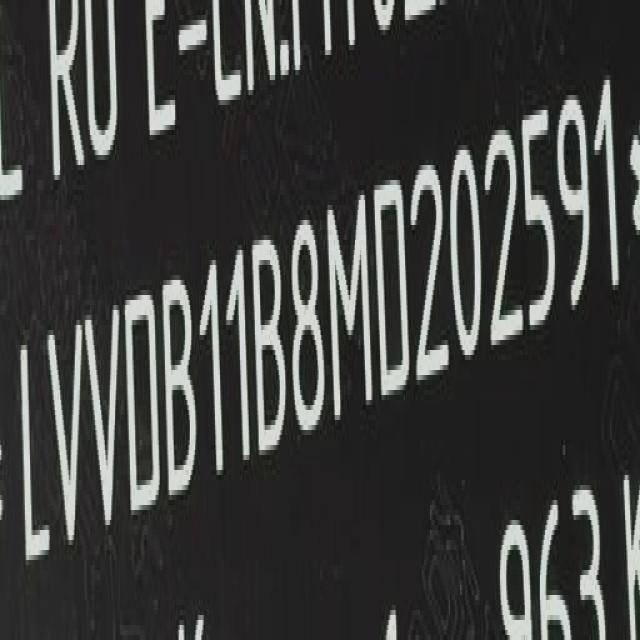0: (446, 146, 482, 366)
1: (596, 77, 623, 307), (227, 253, 252, 472), (201, 262, 225, 479)
2: (484, 118, 523, 348), (412, 160, 450, 380)
5: (521, 104, 557, 333)
8: (292, 216, 328, 441)
9: (557, 86, 592, 320)
B: (164, 276, 200, 496), (254, 236, 288, 457)
D: (123, 292, 161, 518), (377, 177, 415, 401)
L: (16, 336, 50, 572)
M: (328, 193, 377, 419)
V: (85, 300, 124, 542), (45, 318, 83, 556)
